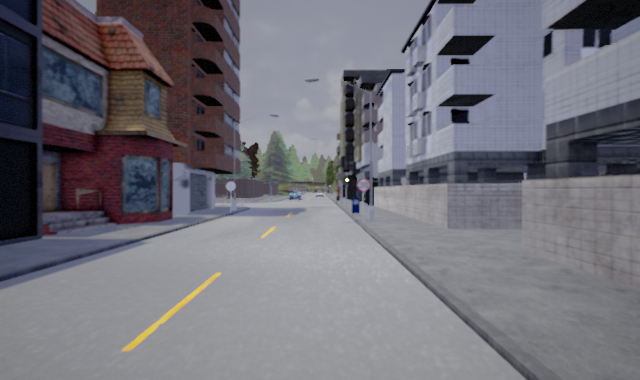traffic_sign: (354, 178, 372, 192)
vehicle: (288, 191, 304, 199)
